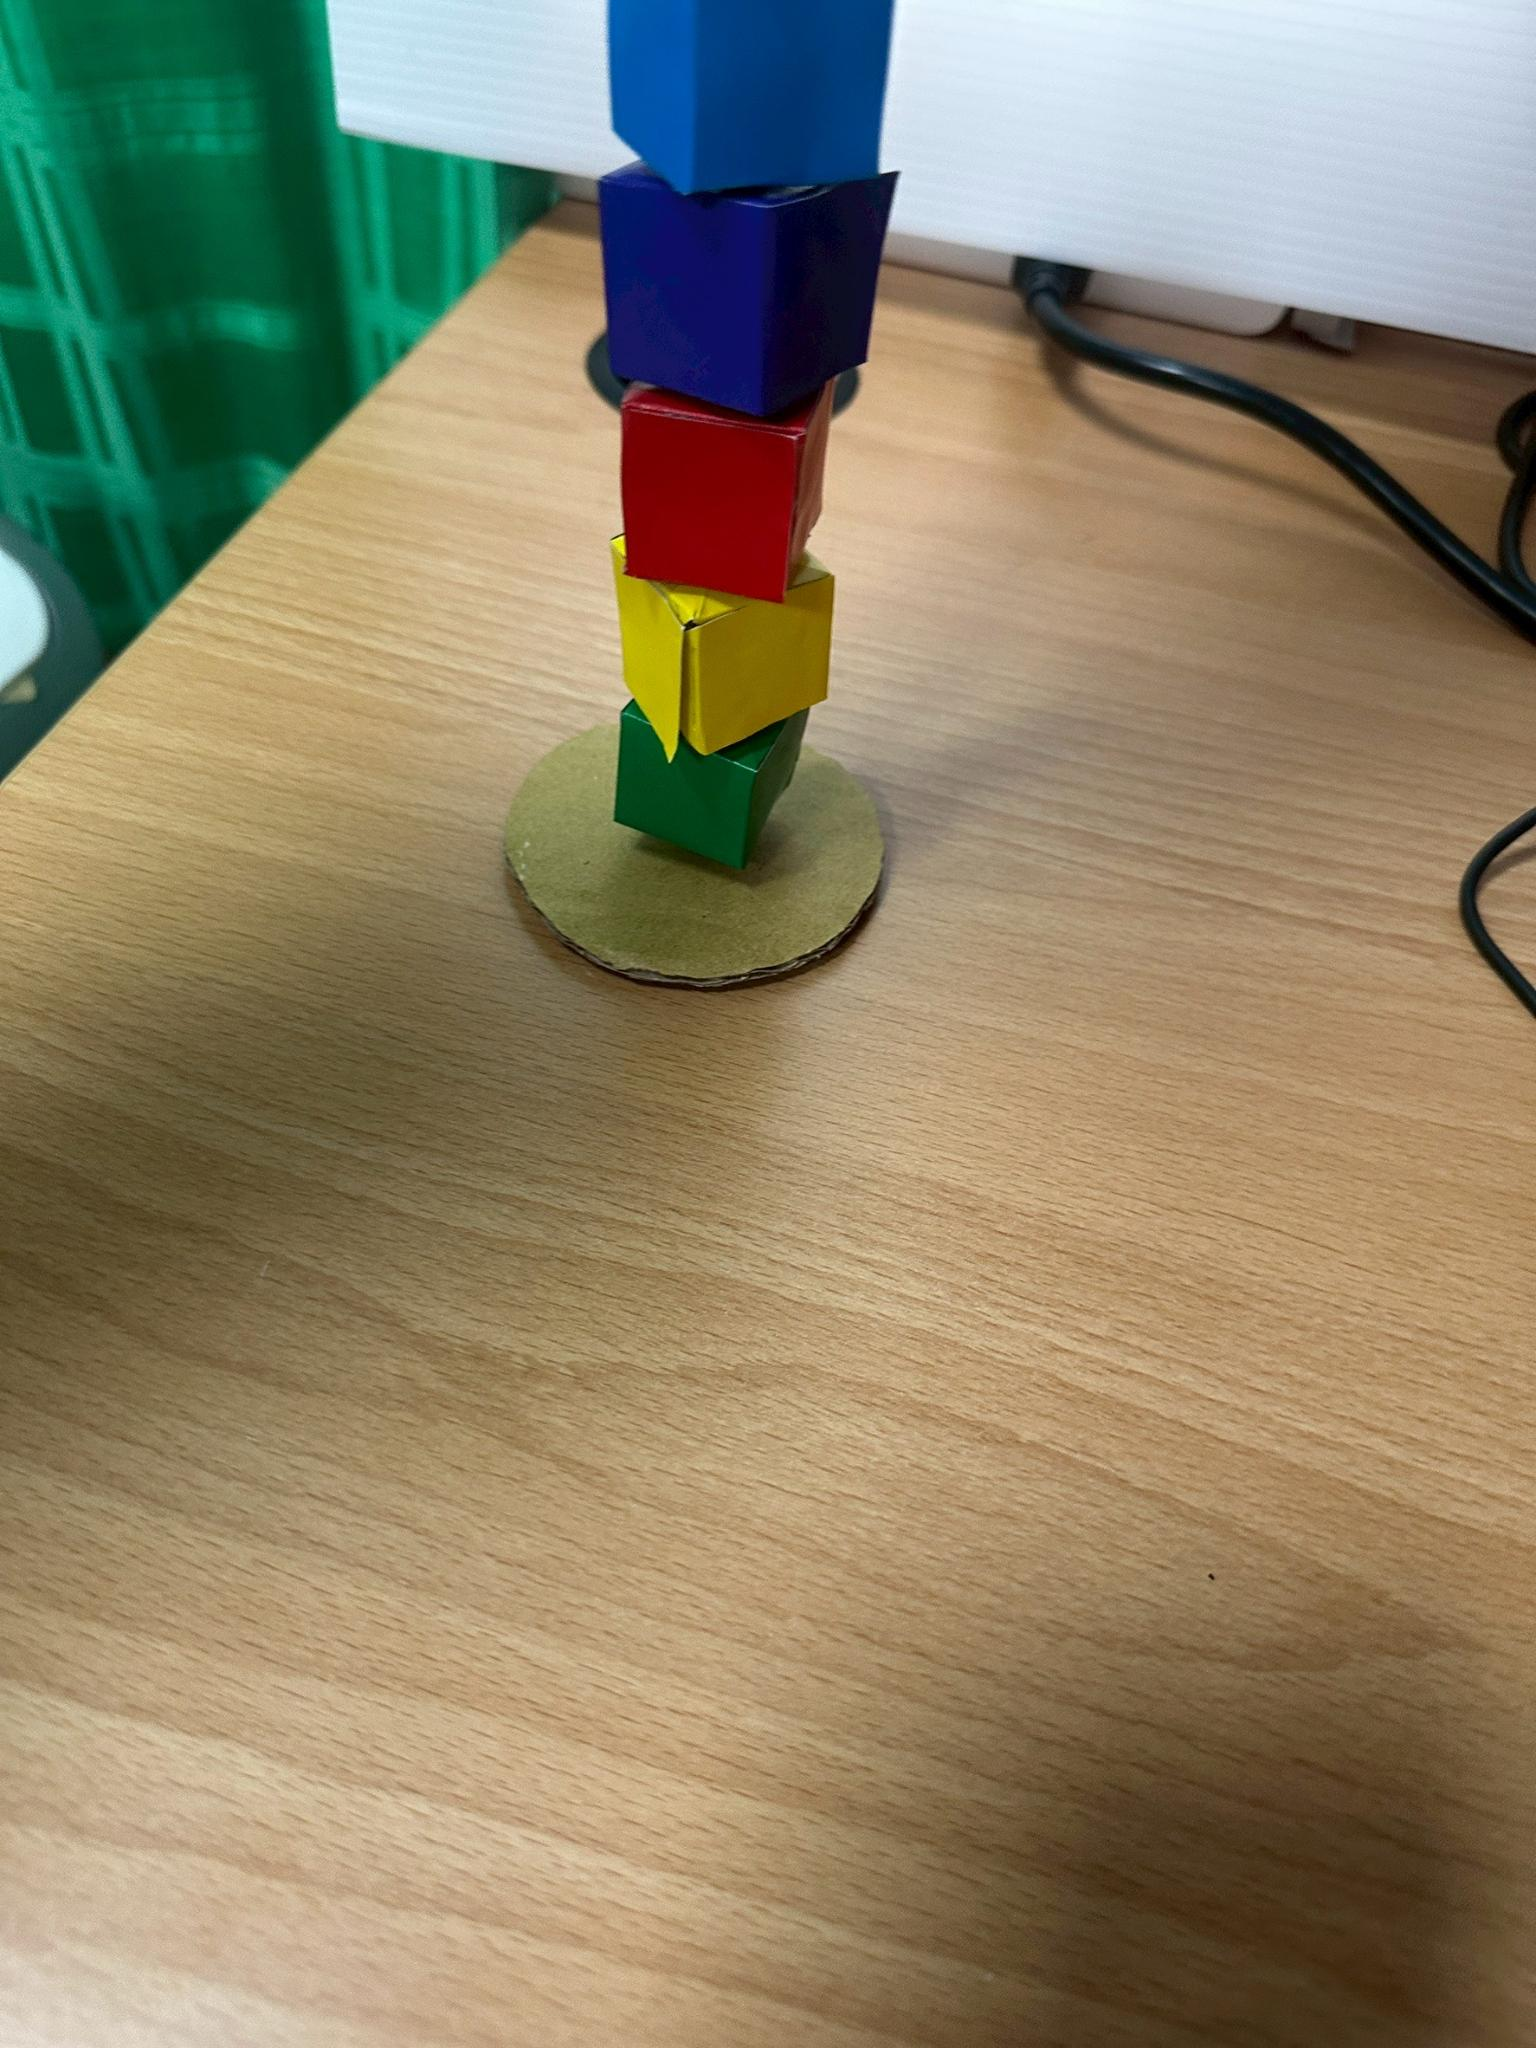base: (505, 721, 884, 984)
